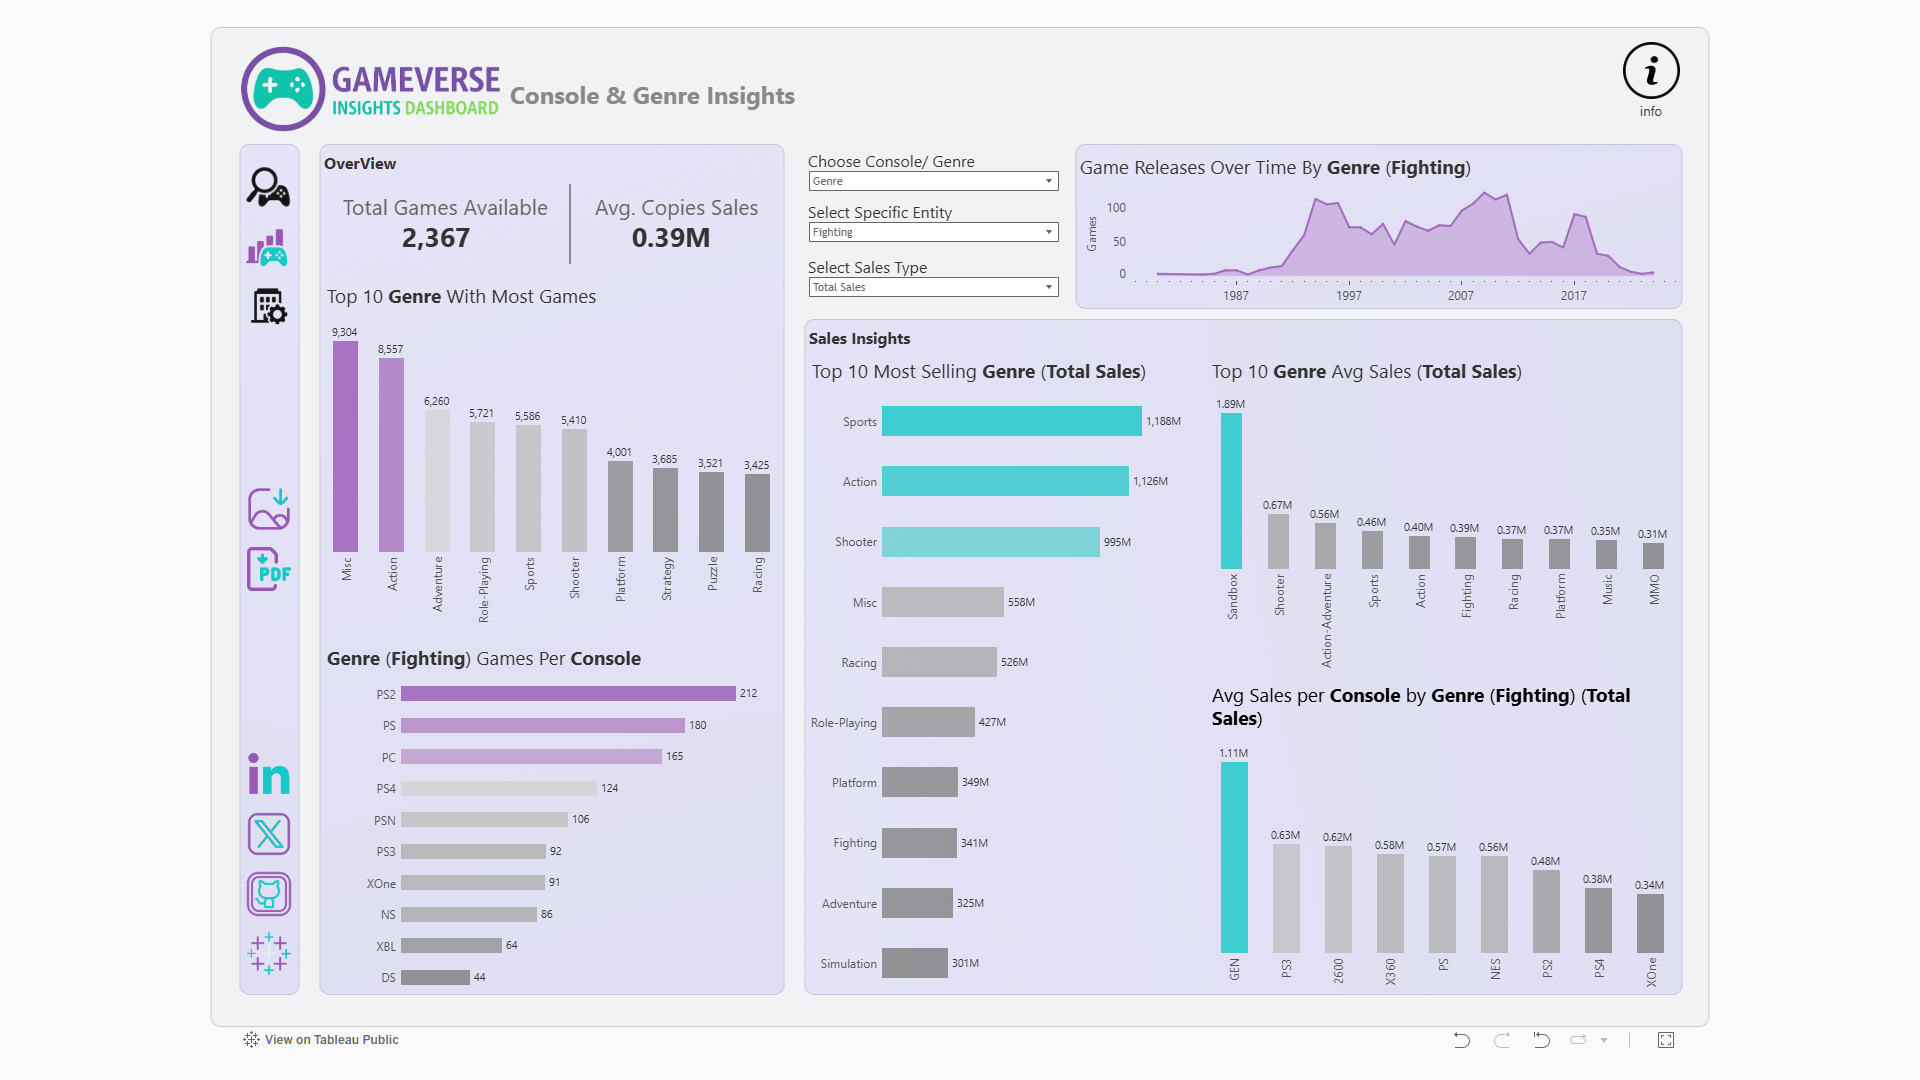

What the dashboard file says about the page in this screenshot:
{"tool":"tableau","page":{"name":"Dashboard 2","canvas":[1400,800],"ordinal":1},"visuals":[{"type":"image","param":"Image/Frame 2.png","box":[0,0,1400,800]},{"type":"image","param":"Image/Logo.png","box":[8,8,260,90]},{"type":"blank","box":[268,8,1124,90]},{"type":"dashboard-object","box":[1310,17,54,54]},{"type":"text","box":[275,33,566,43]},{"type":"blank","box":[91,104,1298,186]},{"type":"blank","box":[28,108,60,10]},{"type":"text","box":[108,108,465,21]},{"type":"parameter","param":"[Parameters].[Parameter 1]","box":[593,108,260,53]},{"type":"worksheet","title":"Con/Gen through time","mark":"Line","rows":["title","title"],"cols":["release_date"],"box":[863,108,509,155]},{"type":"blank","box":[109,109,466,118]},{"type":"dashboard-object","box":[28,118,60,60]},{"type":"worksheet","title":"KPI - TotalGames","mark":"Automatic","box":[108,129,253,100]},{"type":"blank","box":[361,129,2,100]},{"type":"worksheet","title":"KPI - AvgSales","mark":"Automatic","box":[363,129,210,100]},{"type":"filter","title":"KPI - TotalGames","param":"[federated.18w1nm404yaaw618ulkqm1dnj3dy].[none:Calculation_1497446943704072193:n","box":[593,161,260,49]},{"type":"dashboard-object","box":[28,178,60,60]},{"type":"parameter","param":"[Parameters].[Parameter 2]","box":[593,210,260,53]},{"type":"worksheet","title":"Top 10 Console/Genre","mark":"Automatic","rows":["Video Games Data.csv_87575D1885CE4F9F9E11FA6B9C9073A3"],"cols":["Calculation_1497446943697616896"],"box":[108,229,465,233]},{"type":"dashboard-object","box":[28,238,60,60]},{"type":"text","box":[593,273,779,21]},{"type":"text","box":[91,290,1298,298]},{"type":"worksheet","title":"Top 10 Con/Gen(sales)","mark":"Automatic","rows":["Calculation_1497446943697616896"],"cols":["Calculation_1052435005628178432"],"box":[593,294,360,478]},{"type":"worksheet","title":"TOP 10 Con/Gen AvgSales","mark":"Automatic","rows":["Calculation_1052435005628178432"],"cols":["Calculation_1497446943697616896"],"box":[953,294,414,239]},{"type":"blank","box":[28,298,60,123]},{"type":"dashboard-object","box":[28,421,60,55]},{"type":"worksheet","title":"Con/Gen Per Gen/Con","mark":"Bar","rows":["Console/Genre (copy)_1497446943706566658"],"cols":["Video Games Data.csv_87575D1885CE4F9F9E11FA6B9C9073A3"],"box":[108,462,465,310]},{"type":"dashboard-object","box":[28,476,60,55]},{"type":"blank","box":[28,531,60,50]},{"type":"worksheet","title":"Avg Sales Per Gen by Con","mark":"Automatic","rows":["Calculation_1052435005628178432"],"cols":["Console/Genre (copy)_1497446943706566658"],"box":[953,533,414,239]},{"type":"image","param":"Image/contact-linkedin.png","box":[28,581,60,60]},{"type":"blank","box":[91,588,1298,186]},{"type":"image","param":"Image/contact-github.png","box":[28,641,60,61]},{"type":"image","param":"Image/contact-public.png","box":[28,702,60,60]},{"type":"blank","box":[28,762,60,10]}]}

Visuals, with their boxes on the page's 1400x800 design canvas (x1, y1, x2, y2). These are canvas units, not pixel positions in the 1920x1080 screenshot, which may show the page scaled, cropped or inside an application window:
image: box=[0, 0, 1400, 800]
image: box=[8, 8, 268, 98]
blank: box=[268, 8, 1392, 98]
dashboard-object: box=[1310, 17, 1364, 71]
text: box=[275, 33, 841, 76]
blank: box=[91, 104, 1389, 290]
blank: box=[28, 108, 88, 118]
text: box=[108, 108, 573, 129]
parameter: box=[593, 108, 853, 161]
"Con/Gen through time" worksheet (Line marks): box=[863, 108, 1372, 263]
blank: box=[109, 109, 575, 227]
dashboard-object: box=[28, 118, 88, 178]
"KPI - TotalGames" worksheet: box=[108, 129, 361, 229]
blank: box=[361, 129, 363, 229]
"KPI - AvgSales" worksheet: box=[363, 129, 573, 229]
"KPI - TotalGames" filter: box=[593, 161, 853, 210]
dashboard-object: box=[28, 178, 88, 238]
parameter: box=[593, 210, 853, 263]
"Top 10 Console/Genre" worksheet: box=[108, 229, 573, 462]
dashboard-object: box=[28, 238, 88, 298]
text: box=[593, 273, 1372, 294]
text: box=[91, 290, 1389, 588]
"Top 10 Con/Gen(sales)" worksheet: box=[593, 294, 953, 772]
"TOP 10 Con/Gen AvgSales" worksheet: box=[953, 294, 1367, 533]
blank: box=[28, 298, 88, 421]
dashboard-object: box=[28, 421, 88, 476]
"Con/Gen Per Gen/Con" worksheet (Bar marks): box=[108, 462, 573, 772]
dashboard-object: box=[28, 476, 88, 531]
blank: box=[28, 531, 88, 581]
"Avg Sales Per Gen by Con" worksheet: box=[953, 533, 1367, 772]
image: box=[28, 581, 88, 641]
blank: box=[91, 588, 1389, 774]
image: box=[28, 641, 88, 702]
image: box=[28, 702, 88, 762]
blank: box=[28, 762, 88, 772]
